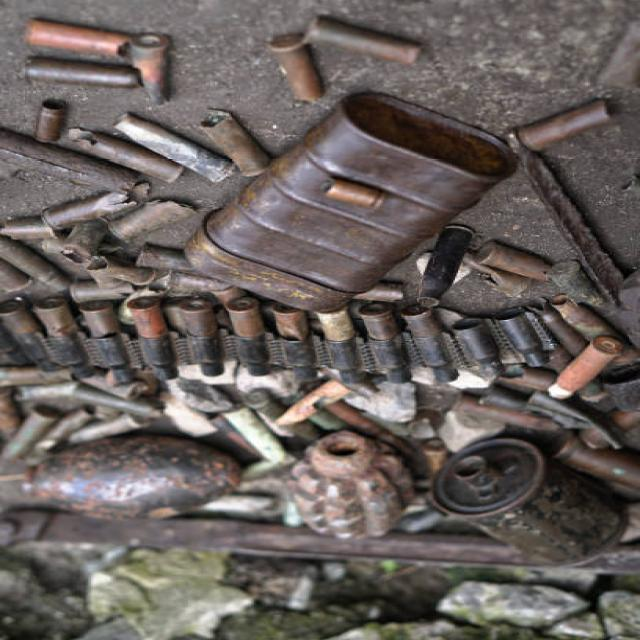grenade: (278, 434, 423, 539)
